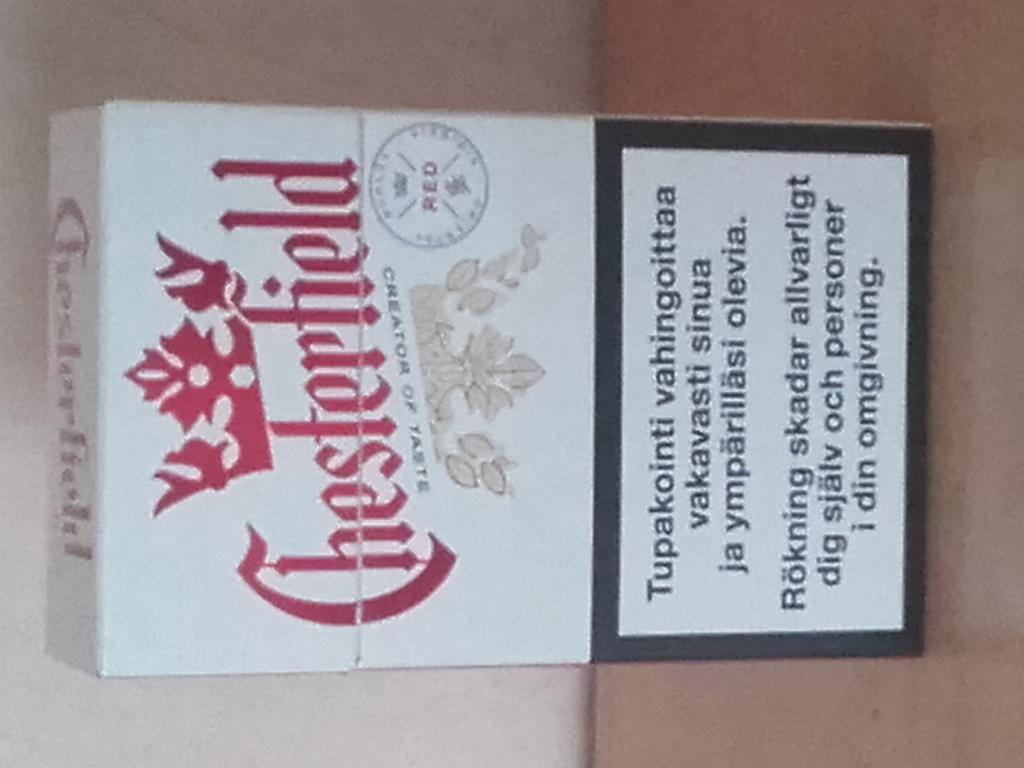chesterfield_red: (105, 114, 927, 668)
